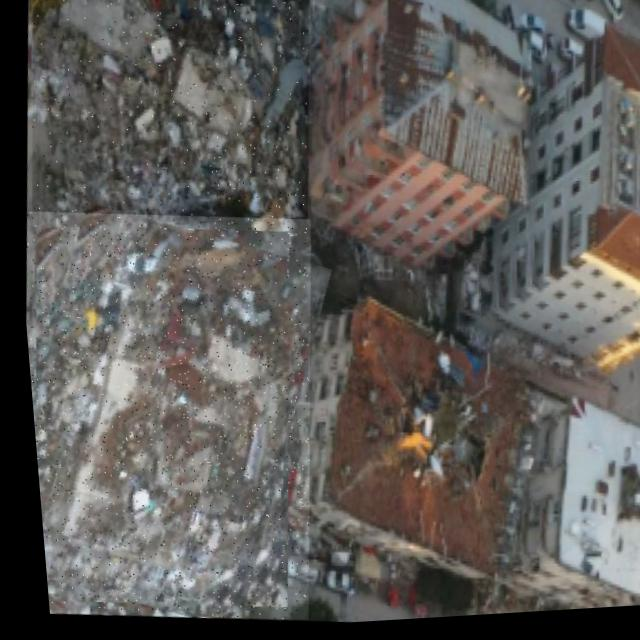Rubble: (14, 197, 331, 634), (12, 0, 323, 246)
